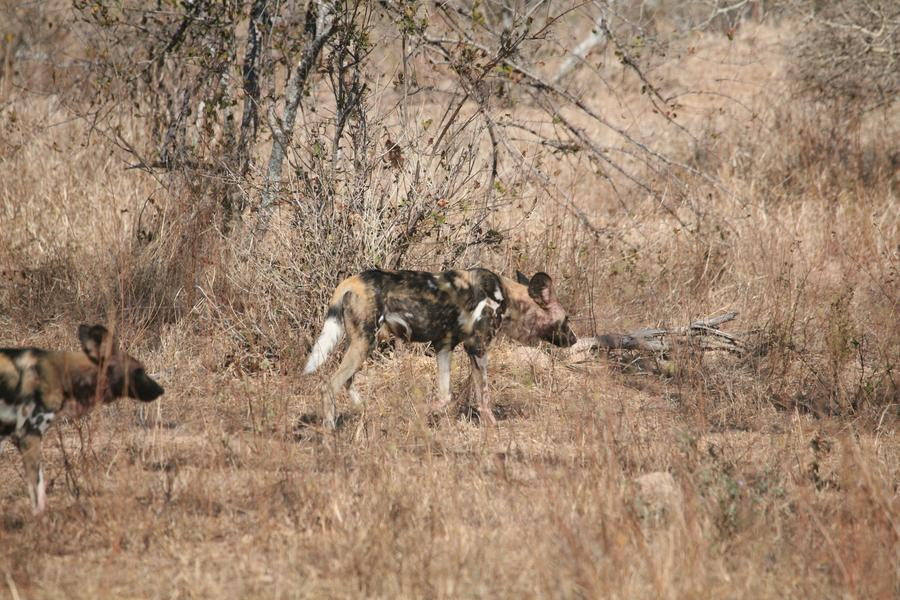wilddog: (315, 259, 555, 367), (15, 328, 136, 435)
